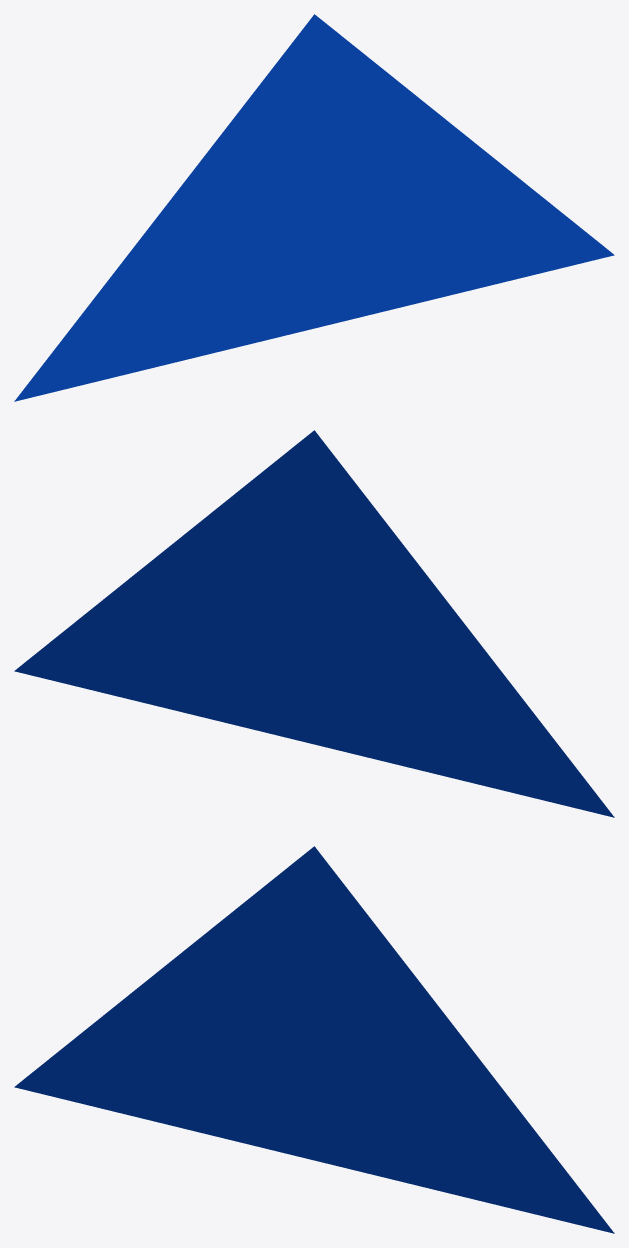
Rendered from triangle-textured.glb.
The picture shows the model from 3 angles, top to bottom: view 1: azimuth 30°, elevation 25°; view 2: azimuth 150°, elevation 25°; view 3: azimuth 330°, elevation 25°; orthographic projection.
Visible parts, largest first — view 1: CC0 triangle; view 2: CC0 triangle; view 3: CC0 triangle.
Boxes of the visible parts, x1,y1,x2,y2 form: CC0 triangle: (14, 14, 614, 401); CC0 triangle: (14, 430, 614, 817); CC0 triangle: (14, 846, 614, 1233).
Size of the model in its own units: 2 by 1 by 0.
Materials: 1 (1 with a texture image).
